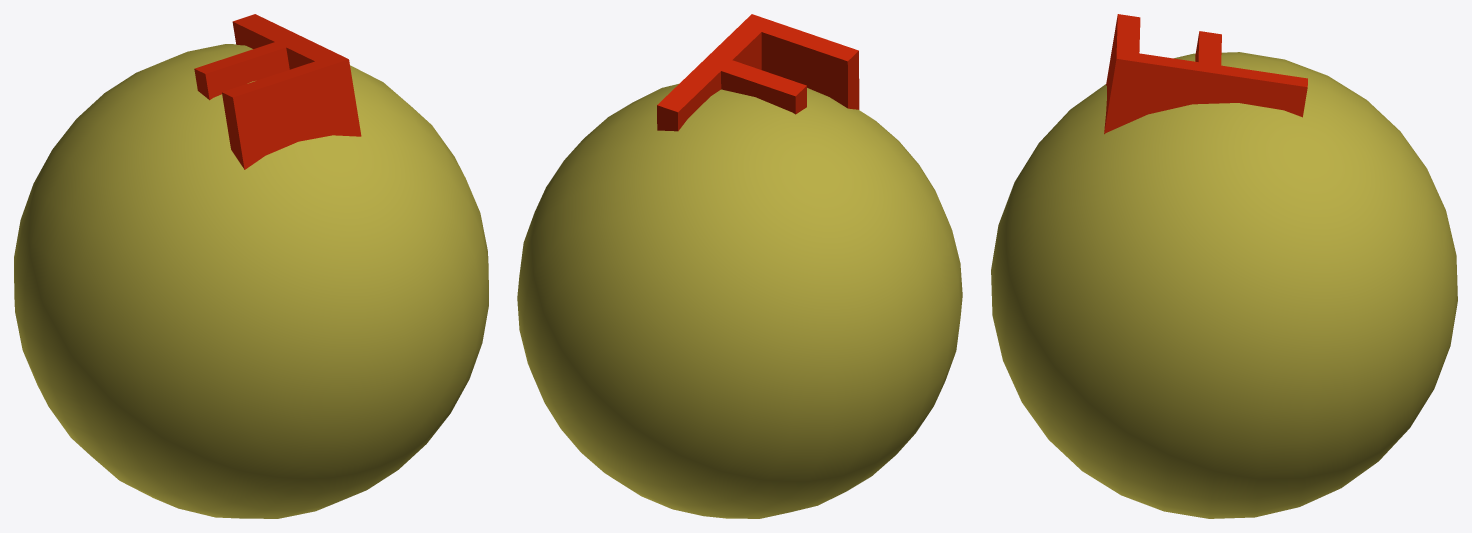
3 renders of one model, left to right at view 1: azimuth 30°, elevation 25°; view 2: azimuth 150°, elevation 25°; view 3: azimuth 270°, elevation 25°, orthographic. The views are drawn at different scales.
Visible parts, largest first — view 1: F; view 2: F; view 3: F.
Boxes of the visible parts, x1,y1,x2,y2 form: F: (14,14,488,518); F: (517,14,962,518); F: (991,14,1457,518).
Size of the model in its own units: 38.67 by 41.86 by 38.66.
